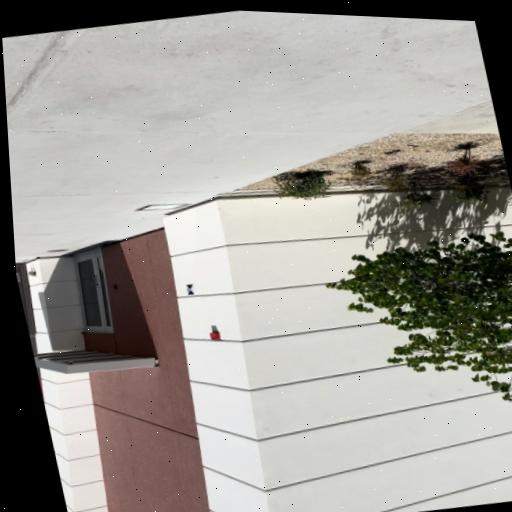target6: (186, 283, 195, 294)
